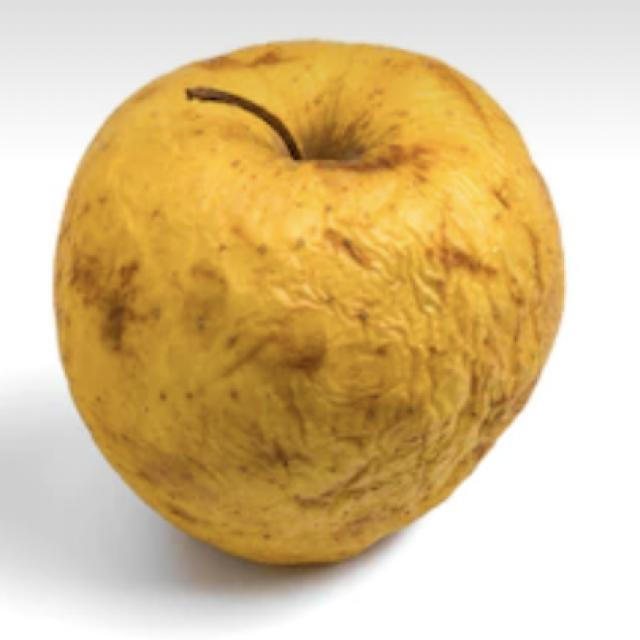rotten_apple: (51, 39, 561, 565)
